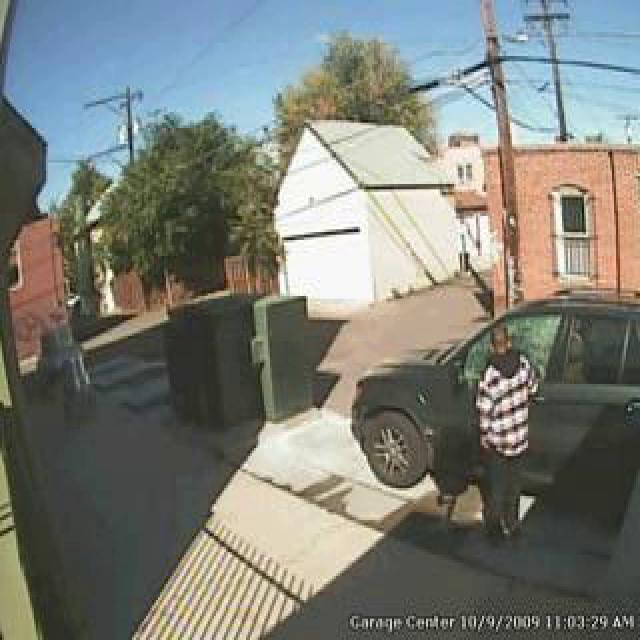stealing: (299, 32, 597, 600)
